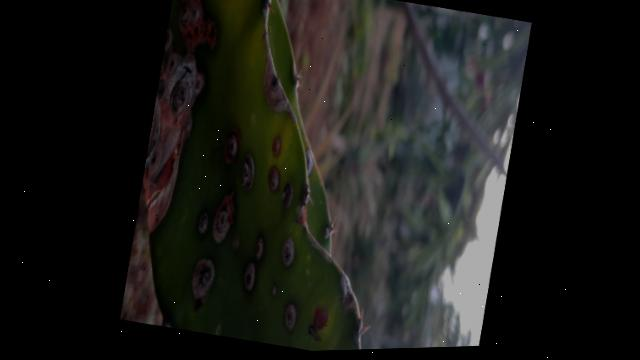stemcanker: (181, 98, 363, 348)
